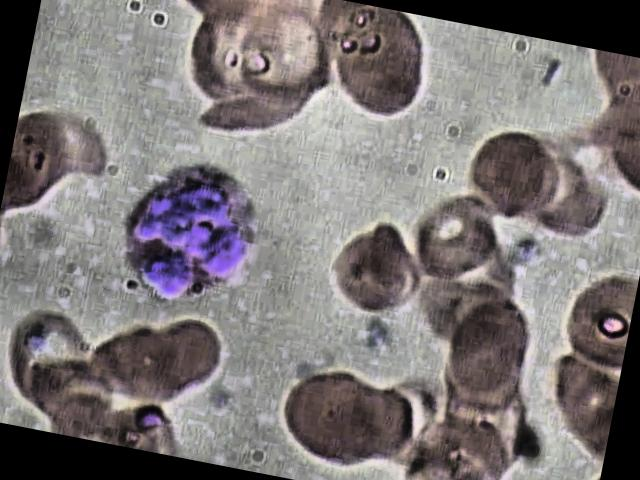Platelets: (130, 393, 169, 438), (356, 316, 396, 354), (510, 232, 548, 270), (24, 326, 47, 352)
RBC: (312, 0, 438, 127), (225, 0, 347, 123), (269, 357, 392, 478), (402, 183, 512, 295), (434, 291, 544, 403), (0, 302, 100, 425), (320, 209, 426, 324), (461, 125, 562, 232), (0, 110, 86, 228), (140, 311, 234, 412)
WBC: (90, 138, 288, 321)
